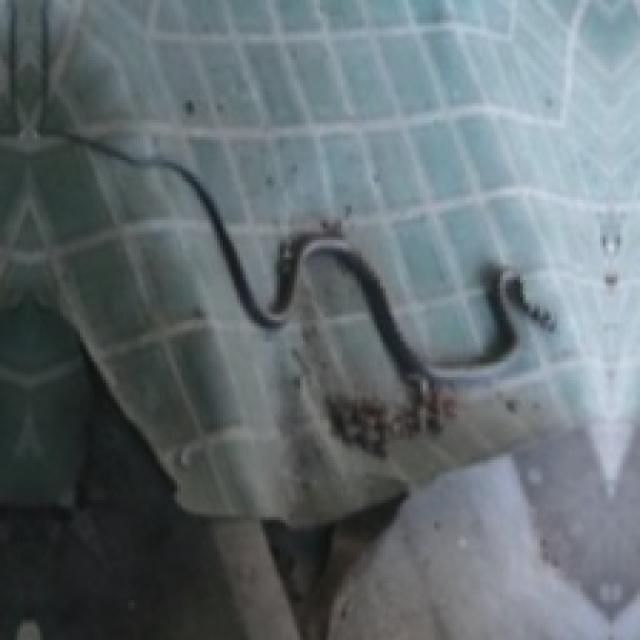paradise tree snake: (0, 0, 551, 523)
